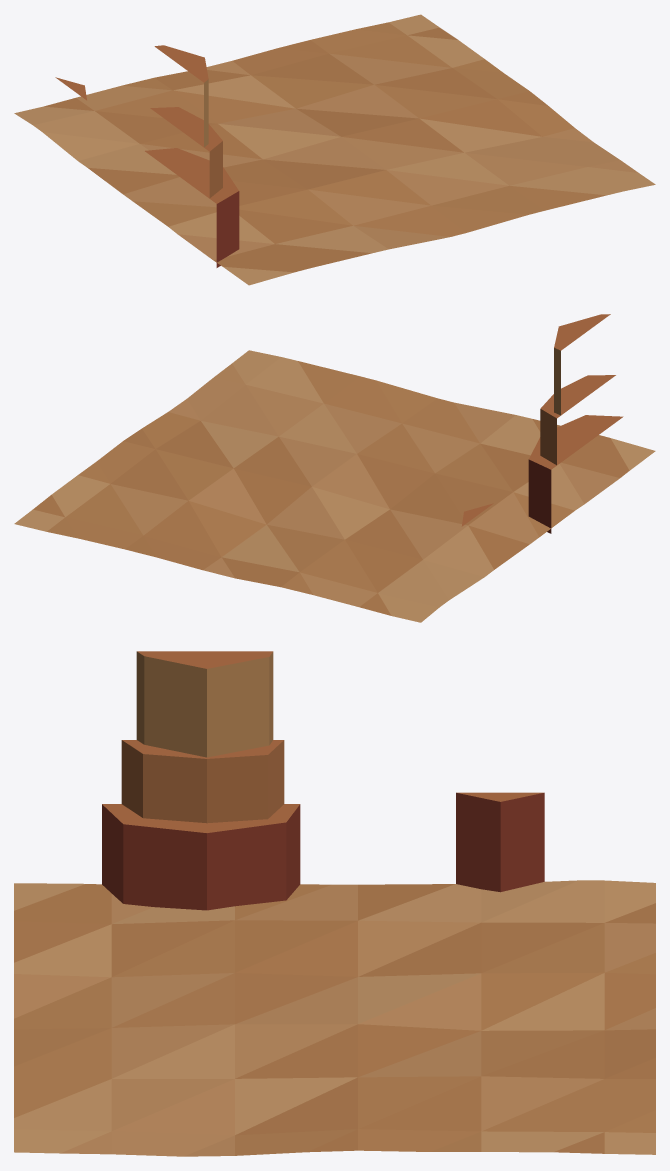
3 renders of one model, top to bottom at view 1: azimuth 30°, elevation 25°; view 2: azimuth 150°, elevation 25°; view 3: azimuth 270°, elevation 25°, orthographic. The views are drawn at different scales.
Parts seen in each view (by area): view 1: baked; view 2: baked; view 3: baked.
Part boxes in pixels (x1,y1,x2,y2): baked: (14, 14, 655, 285); baked: (14, 314, 655, 622); baked: (14, 651, 655, 1156).
Bounding box in the file's own units: 62.5 × 25.83 × 62.5.
